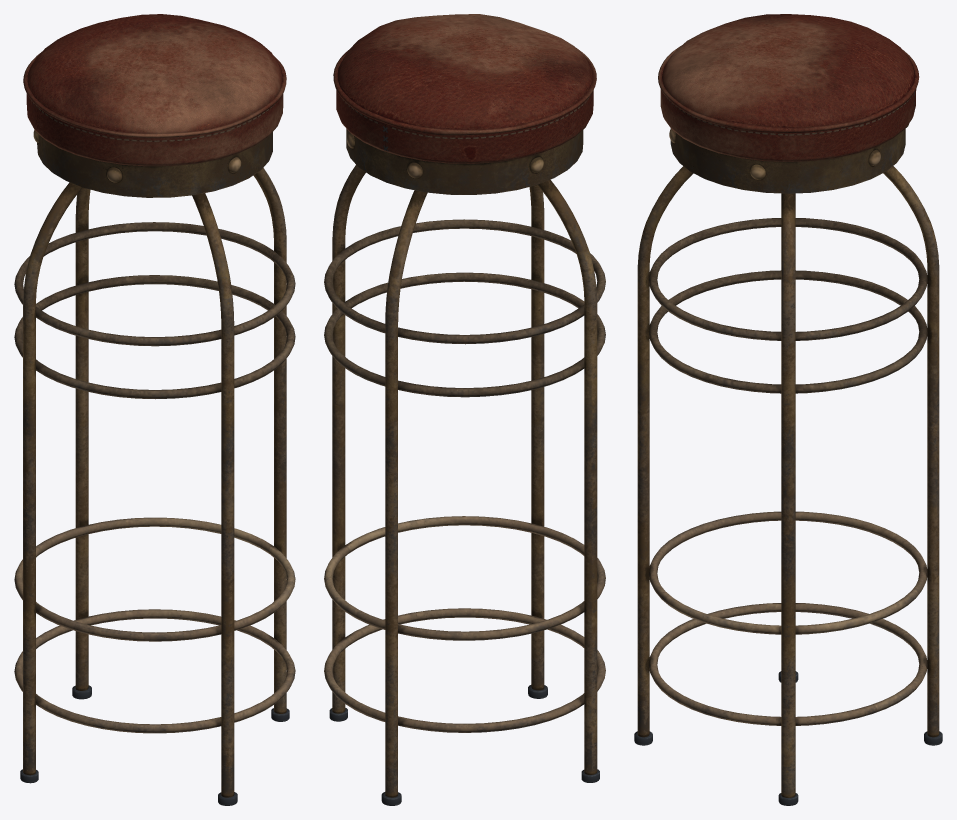
Rendered from metal_stool_01.gltf.
The picture shows the model from 3 angles, left to right: view 1: azimuth 30°, elevation 25°; view 2: azimuth 150°, elevation 25°; view 3: azimuth 270°, elevation 25°; orthographic projection.
Parts seen in each view (by area): view 1: metal_stool_01; view 2: metal_stool_01; view 3: metal_stool_01.
Boxes of the visible parts, x1,y1,x2,y2 form: metal_stool_01: (14, 14, 295, 805); metal_stool_01: (324, 14, 605, 805); metal_stool_01: (634, 14, 942, 805).
Bounding box in the file's own units: 0.352 × 0.8828 × 0.3546.
Materials: 1 (1 with a texture image).
